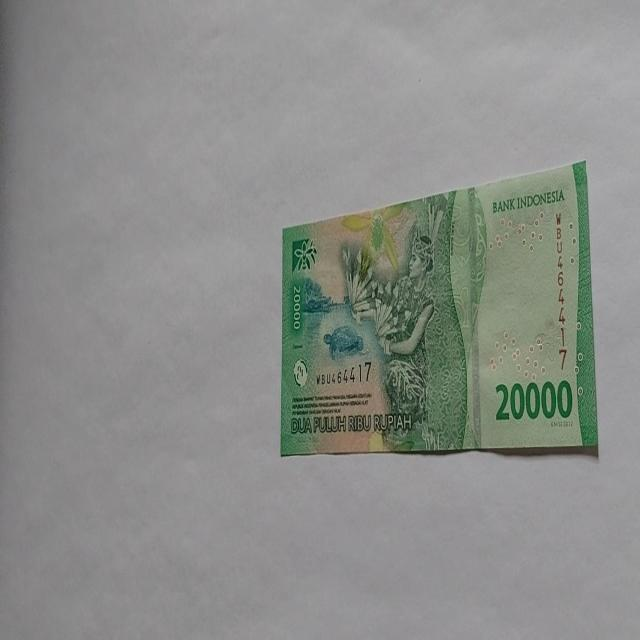dua puluh ribu rupiah: (280, 158, 598, 459)
